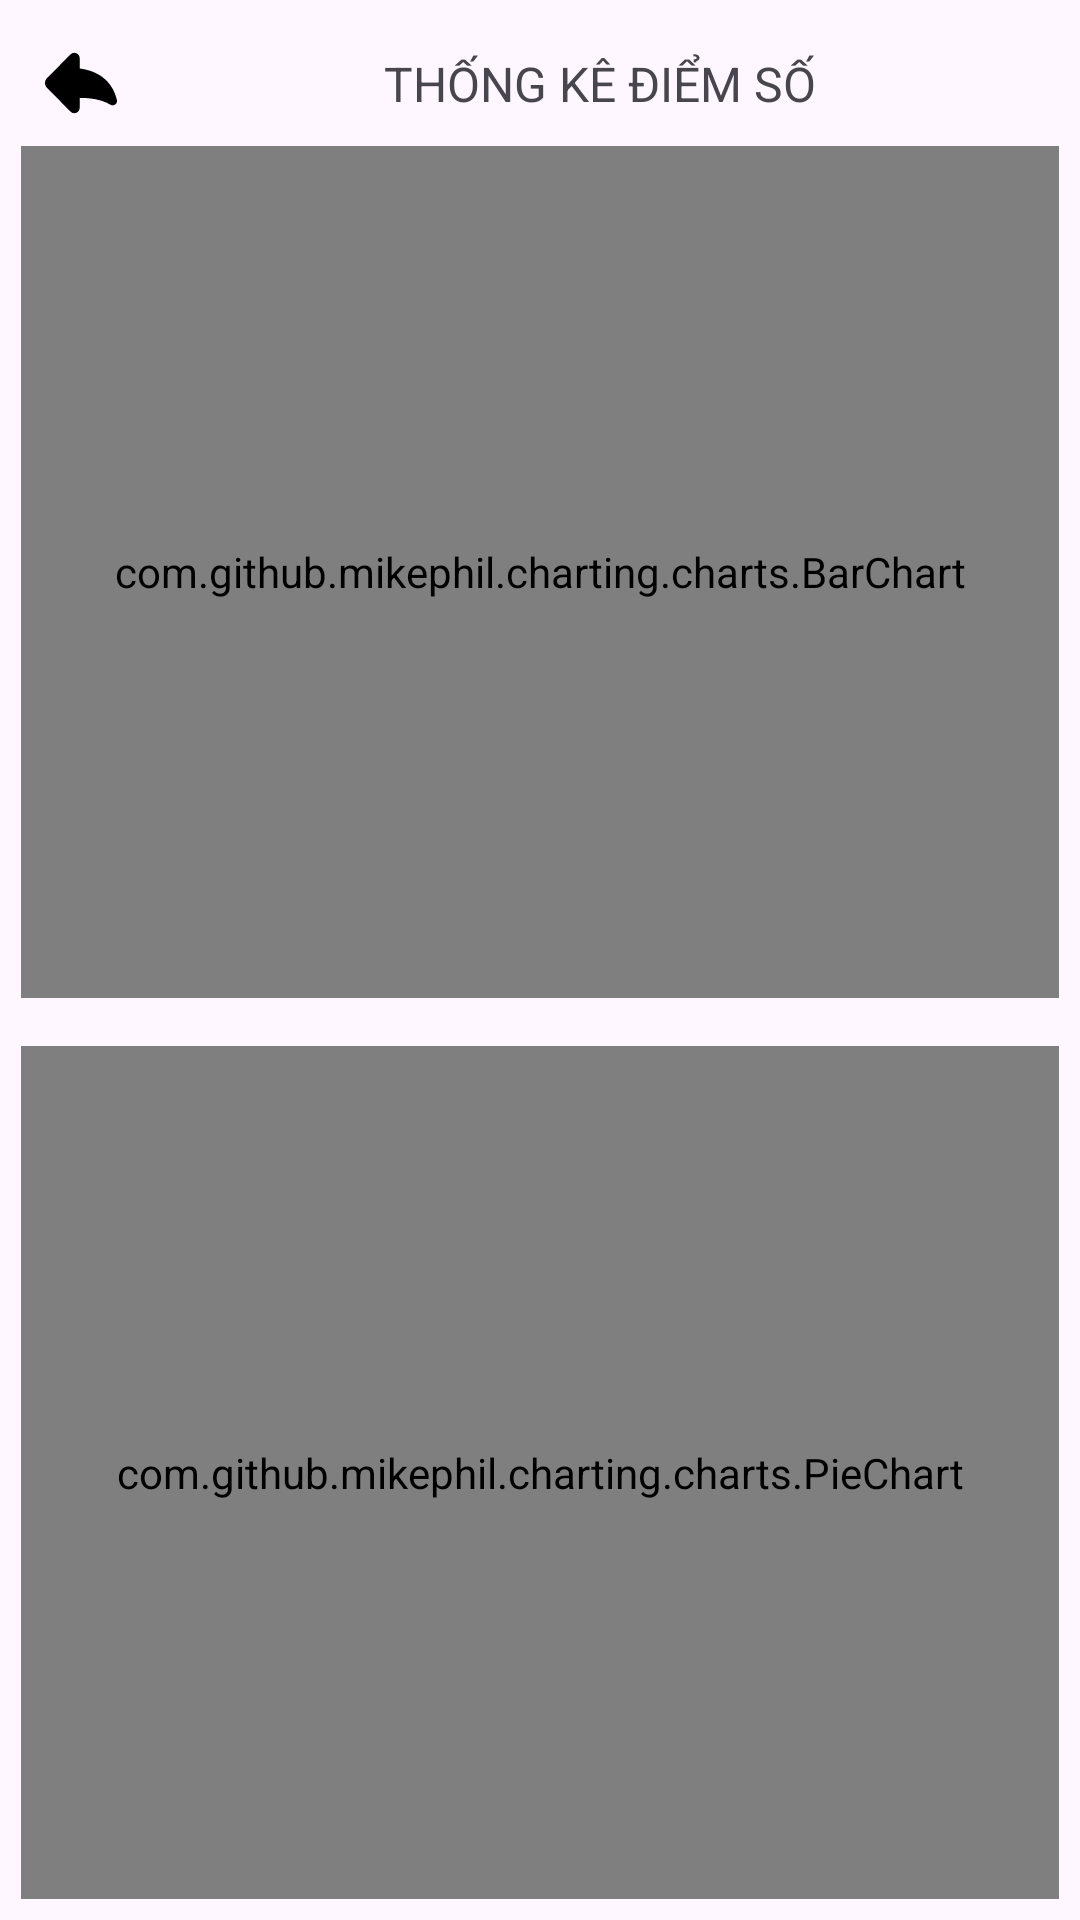

Point at icon controls on the screen. Image size 1080 × 1920, points as (x=x, y=y).
back arrow: (x=81, y=83)
